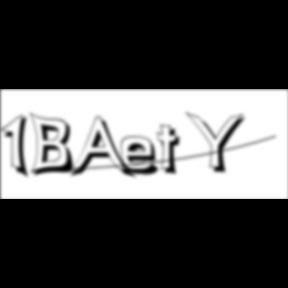1: (1, 114, 36, 182)
A: (70, 116, 138, 182)
B: (30, 111, 80, 179)
Y: (184, 110, 252, 176)
e: (120, 135, 166, 178)
t: (156, 124, 188, 179)
